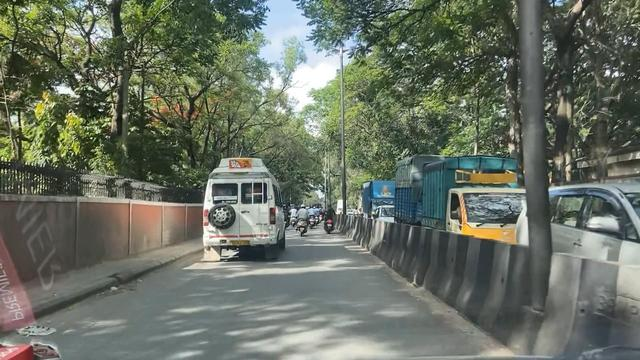HMV: (209, 157, 278, 260)
LMV: (324, 197, 339, 239), (297, 201, 312, 235)
